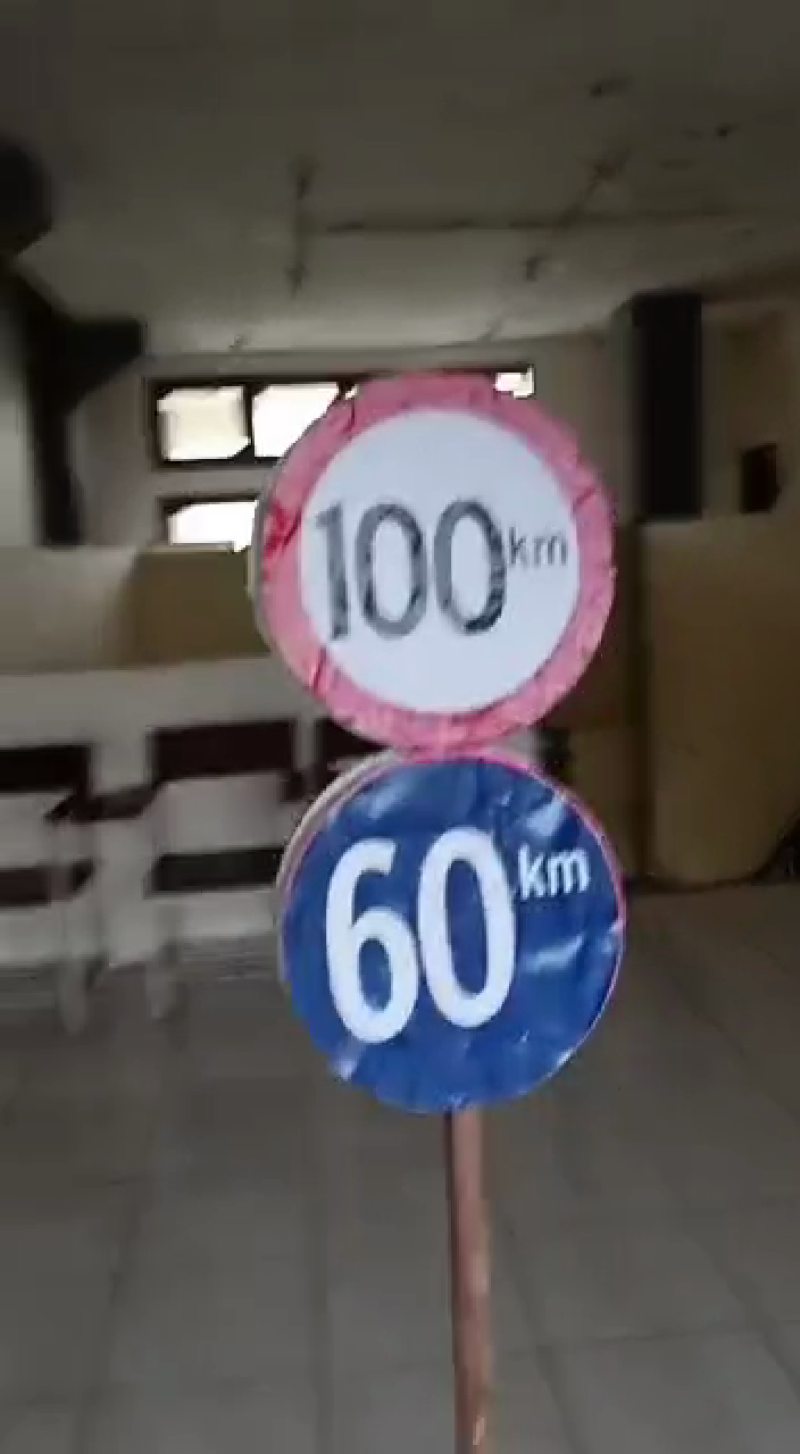batas maksimal 100kmperjam minimal 60kmperjam: (247, 363, 637, 1115)
